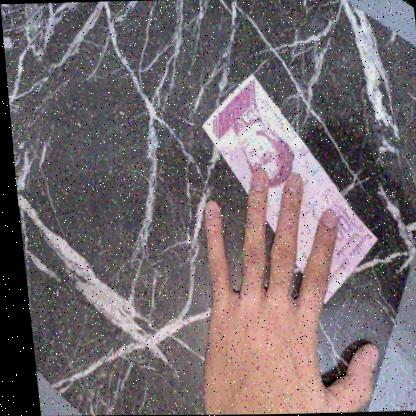one_hundred-front-vef: (194, 70, 378, 306)
